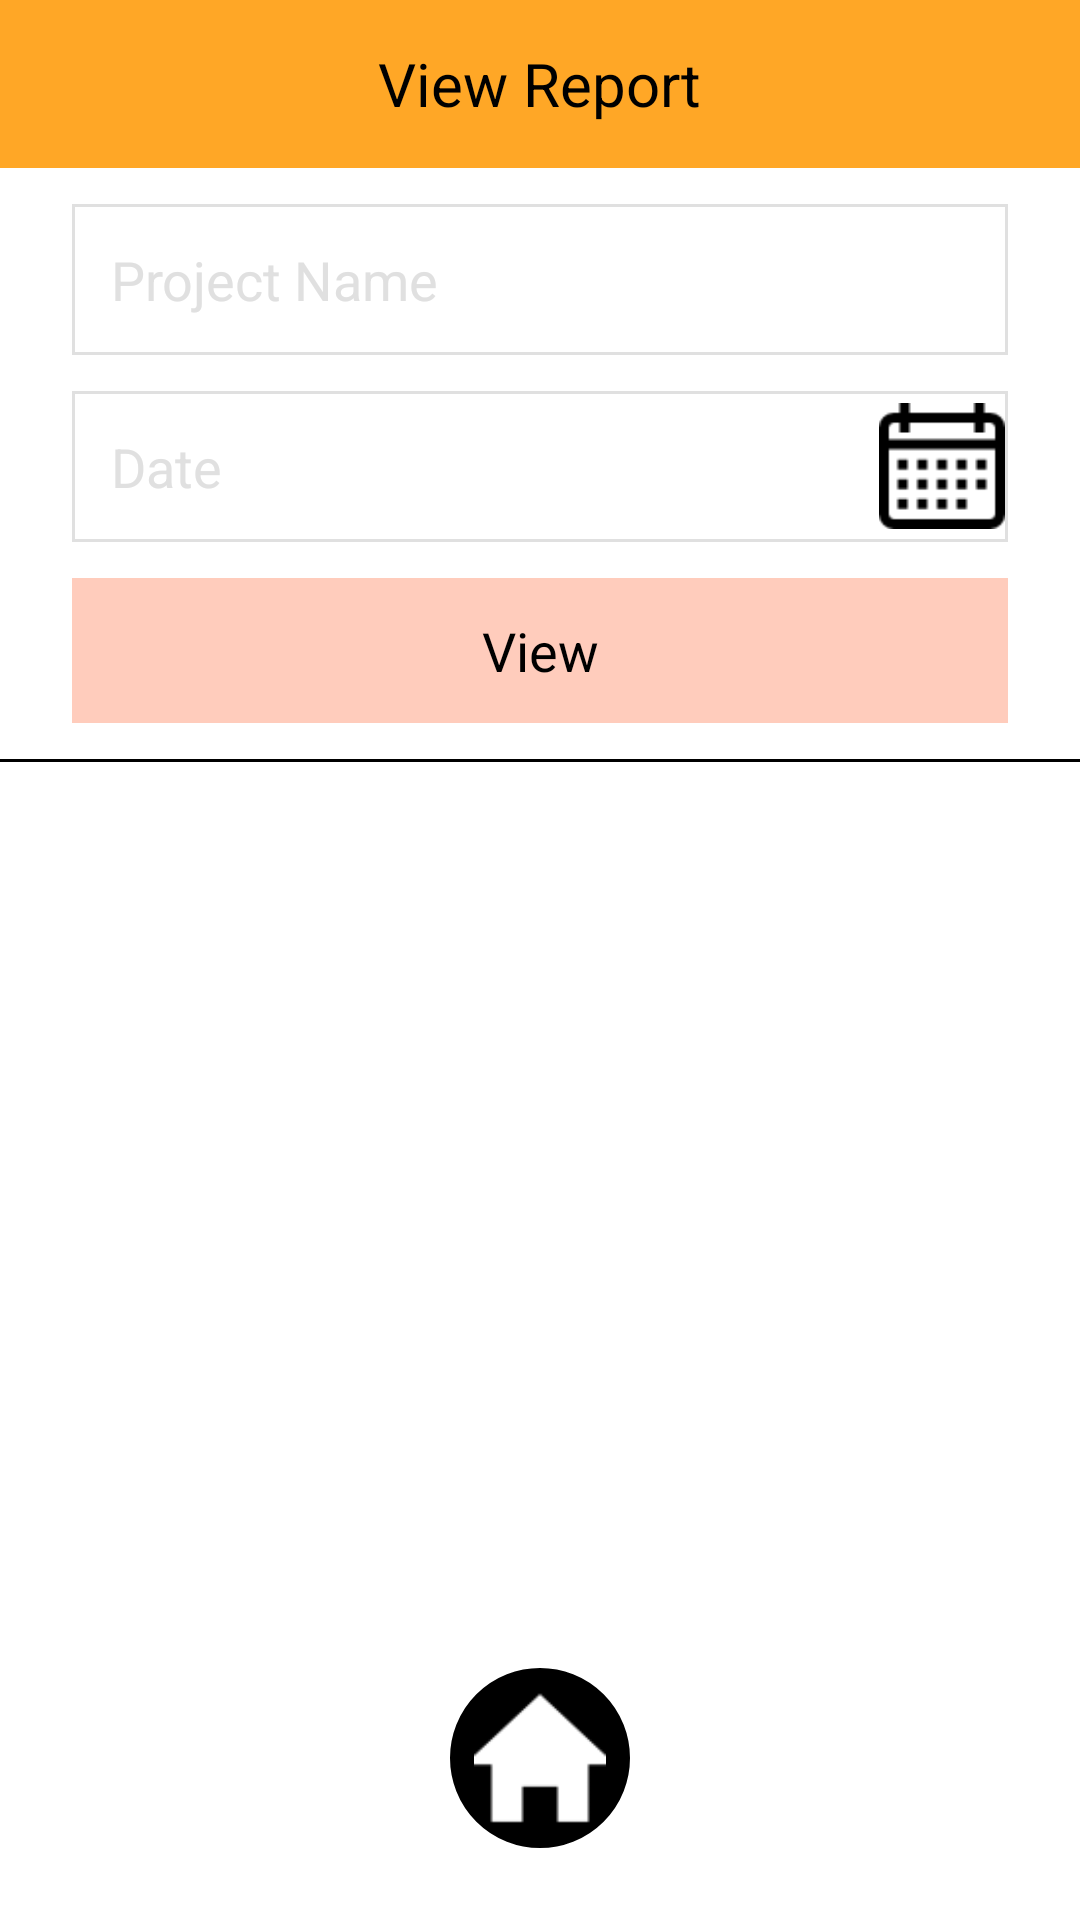

Screen size 1080px×1920px. Icon name, then its box in pixels as bbox=(x1, y1, x2, y2):
calendar: bbox=(879, 403, 1005, 529)
home: bbox=(450, 1668, 630, 1848)
